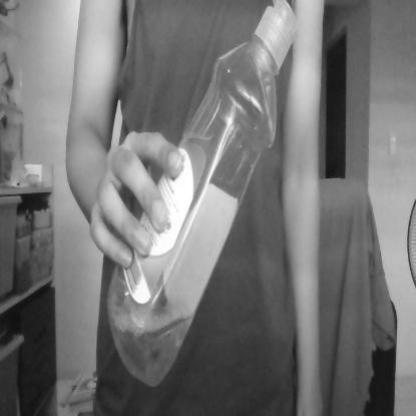Plastic Bottle: (107, 7, 303, 389)
